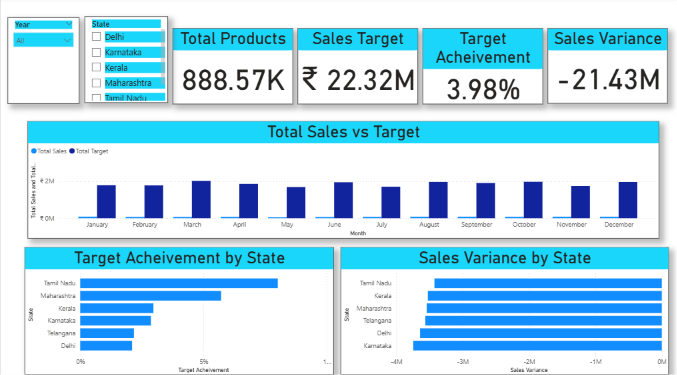

This screenshot's page, from the dashboard's own definition file:
{"tool":"powerbi","page":{"name":"Target Analysis","canvas":[1280,720],"ordinal":4},"visuals":[{"type":"card","title":"Total Products","fields":{"Values":["Sum(Sales.SalesAmountt)"]},"box":[325.1,57.8,227.1,143.4],"z":0},{"type":"card","title":"Sales Target","fields":{"Values":["Sum(Targets.SalesTarget)"]},"box":[561.3,57.8,227.1,143.4],"z":1000},{"type":"card","title":"Target Acheivement","fields":{"Values":["Targets.Target Acheivement"]},"box":[797.5,57.8,227.1,143.4],"z":2000},{"type":"card","title":"Sales Variance","fields":{"Values":["Targets.Sales Variance"]},"box":[1033.7,58.6,226.8,141.7],"z":3000},{"type":"clusteredColumnChart","title":"Total Sales vs Target","fields":{"Y":["Sales.Total Sales","Targets.Total Target"],"Category":["DimDate.Month"]},"box":[51.8,235,1193,221.1],"z":4000},{"type":"clusteredBarChart","fields":{"Category":["DimState.State"],"Y":["Targets.Target Acheivement"]},"box":[44.8,472.5,583.9,241.9],"z":5000},{"type":"clusteredBarChart","fields":{"Category":["DimState.State"],"Y":["Targets.Sales Variance"]},"box":[642,472.5,619.8,241.9],"z":6000},{"type":"slicer","fields":{"Values":["DimDate.Year"]},"box":[13.9,37.8,135.4,163.3],"z":7000},{"type":"slicer","fields":{"Values":["DimState.State"]},"box":[158.5,35.9,157.3,163.3],"z":7001}]}

Visuals, with their boxes in screenshot pixels (x1, y1, x2, y2), scaled from the page's 1280x720 canvas onto the 677x375 screenshot:
"Total Products" card: x1=172, y1=30, x2=292, y2=105
"Sales Target" card: x1=297, y1=30, x2=417, y2=105
"Target Acheivement" card: x1=422, y1=30, x2=542, y2=105
"Sales Variance" card: x1=547, y1=31, x2=667, y2=104
"Total Sales vs Target" clusteredColumnChart: x1=27, y1=122, x2=658, y2=238
clusteredBarChart - DimState.State x Targets.Target Acheivement: x1=24, y1=246, x2=333, y2=372
clusteredBarChart - DimState.State x Targets.Sales Variance: x1=340, y1=246, x2=667, y2=372
slicer - DimDate.Year: x1=7, y1=20, x2=79, y2=105
slicer - DimState.State: x1=84, y1=19, x2=167, y2=104
